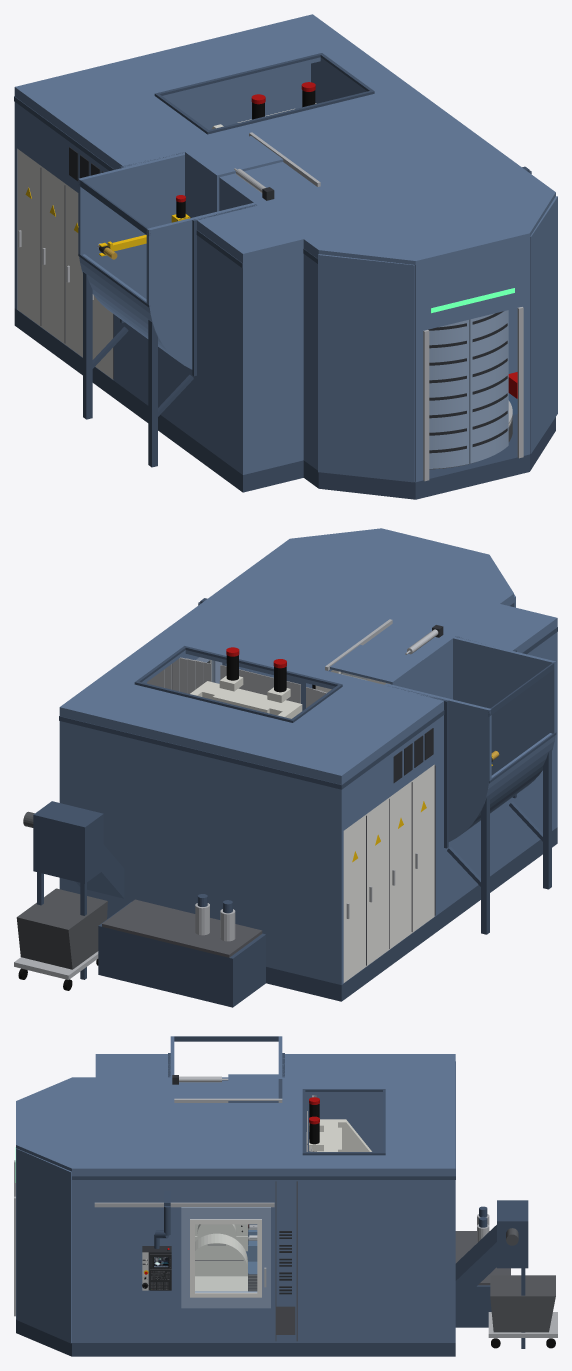
The model's file is hmc_x1200_5ax_blue_right.glb.
The picture shows the model from 3 angles, top to bottom: view 1: azimuth 30°, elevation 25°; view 2: azimuth 150°, elevation 25°; view 3: azimuth 270°, elevation 25°; orthographic projection. The views are drawn at different scales.
Visible parts, largest first — view 1: enclosure__fms_blue, apc_housing__fms_blue, tc_box__fms_blue, electrical_cabinet__hmc_white, enclosure__fms_blue_dk, apc_housing__fms_blue_dk, apc_door_left__door_blue, apc_door_right__door_blue, tc_box__fms_blue_dk, tc_door__fms_blue, apc_housing__steel, apc_door_left__anthracite (+4 smaller); view 2: enclosure__fms_blue, tc_box__fms_blue, chip_coolant__fms_blue_dk, electrical_cabinet__hmc_white, enclosure__fms_blue_dk, apc_housing__fms_blue, chip_cart__steel_dark, chip_coolant__anthracite_lt, tc_box__fms_blue_dk, tc_door__fms_blue, column__struct_grey, enclosure__anthracite (+6 smaller); view 3: enclosure__fms_blue, apc_housing__fms_blue, enclosure__fms_blue_dk, chip_coolant__fms_blue_dk, operator_door__glass_clear, operator_door__door_blue, chip_cart__steel_dark, table__struct_grey, enclosure__steel, operator_door__hmc_white, column__struct_grey, tc_door__fms_blue (+12 smaller).
Part boxes in pixels (x1=…): enclosure__fms_blue: x1=14, y1=14, x2=540, y2=474; apc_housing__fms_blue: x1=303, y1=181, x2=557, y2=482; tc_box__fms_blue: x1=78, y1=152, x2=255, y2=369; electrical_cabinet__hmc_white: x1=17, y1=149, x2=113, y2=379; enclosure__fms_blue_dk: x1=14, y1=53, x2=374, y2=492; apc_housing__fms_blue_dk: x1=303, y1=248, x2=555, y2=499; apc_door_left__door_blue: x1=429, y1=320, x2=469, y2=468; apc_door_right__door_blue: x1=469, y1=310, x2=508, y2=463; tc_box__fms_blue_dk: x1=78, y1=178, x2=193, y2=467; tc_door__fms_blue: x1=185, y1=136, x2=283, y2=217; apc_housing__steel: x1=423, y1=307, x2=523, y2=481; apc_door_left__anthracite: x1=428, y1=323, x2=466, y2=453; enclosure__fms_blue: x1=59, y1=549, x2=557, y2=984; tc_box__fms_blue: x1=388, y1=637, x2=556, y2=841; chip_coolant__fms_blue_dk: x1=33, y1=801, x2=265, y2=1007; electrical_cabinet__hmc_white: x1=343, y1=764, x2=434, y2=982; enclosure__fms_blue_dk: x1=59, y1=627, x2=557, y2=1001; apc_housing__fms_blue: x1=276, y1=528, x2=515, y2=688; chip_cart__steel_dark: x1=16, y1=888, x2=107, y2=969; chip_coolant__anthracite_lt: x1=102, y1=899, x2=262, y2=957; tc_box__fms_blue_dk: x1=447, y1=662, x2=556, y2=934; tc_door__fms_blue: x1=330, y1=644, x2=422, y2=691; column__struct_grey: x1=190, y1=676, x2=302, y2=718; enclosure__anthracite: x1=393, y1=625, x2=443, y2=782; enclosure__fms_blue: x1=95, y1=1054, x2=455, y2=1342; apc_housing__fms_blue: x1=16, y1=1077, x2=95, y2=1343; enclosure__fms_blue_dk: x1=95, y1=1053, x2=455, y2=1356; chip_coolant__fms_blue_dk: x1=455, y1=1200, x2=528, y2=1348; operator_door__glass_clear: x1=195, y1=1225, x2=256, y2=1291; operator_door__door_blue: x1=181, y1=1207, x2=270, y2=1308; chip_cart__steel_dark: x1=490, y1=1275, x2=555, y2=1332; table__struct_grey: x1=195, y1=1224, x2=247, y2=1291; enclosure__steel: x1=94, y1=1076, x2=282, y2=1207; operator_door__hmc_white: x1=190, y1=1219, x2=261, y2=1297; column__struct_grey: x1=309, y1=1119, x2=371, y2=1151; tc_door__fms_blue: x1=228, y1=1074, x2=278, y2=1102.
Size of the model in its own units: 5.08 by 3.22 by 7.86.
22 materials, 2 textured.
